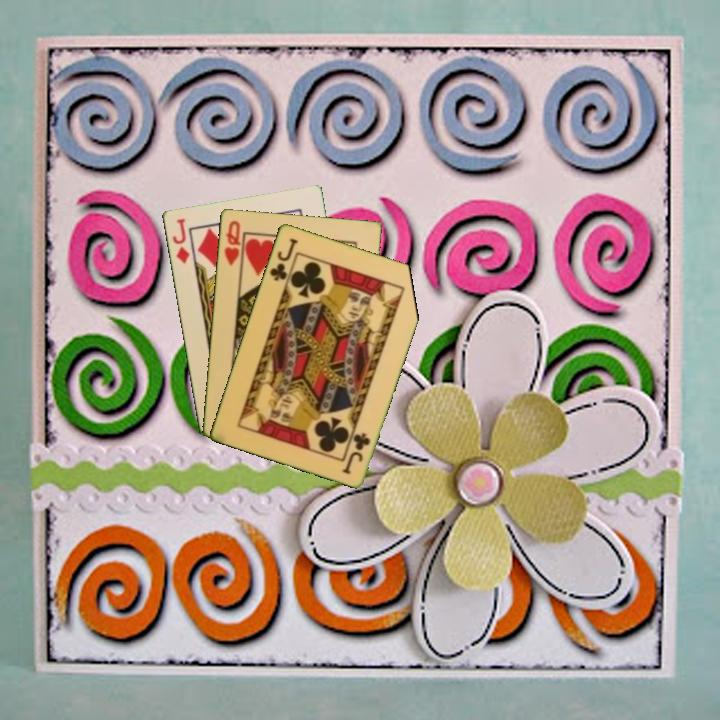Jc: (266, 234, 300, 284), (339, 428, 373, 477)
Jd: (169, 215, 192, 266)
Qh: (221, 217, 243, 268)
